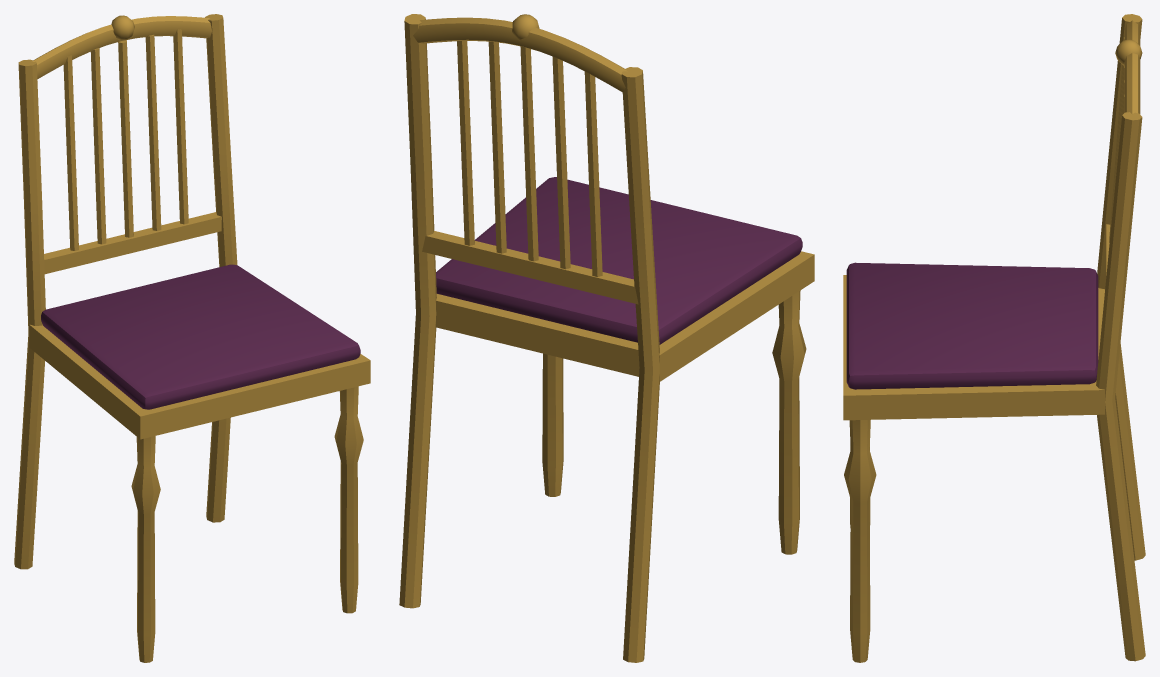
The model's file is chair_gilt.glb.
The picture shows the model from 3 angles, left to right: view 1: azimuth 30°, elevation 25°; view 2: azimuth 150°, elevation 25°; view 3: azimuth 270°, elevation 25°; orthographic projection. The views are drawn at different scales.
Parts seen in each view (by area): view 1: chair_gilt; view 2: chair_gilt; view 3: chair_gilt.
Part boxes in pixels (x1,y1,x2,y2): chair_gilt: [14, 14, 370, 662]; chair_gilt: [399, 14, 814, 662]; chair_gilt: [843, 14, 1145, 662].
Size of the model in its own units: 0.42 by 0.9196 by 0.4449.
